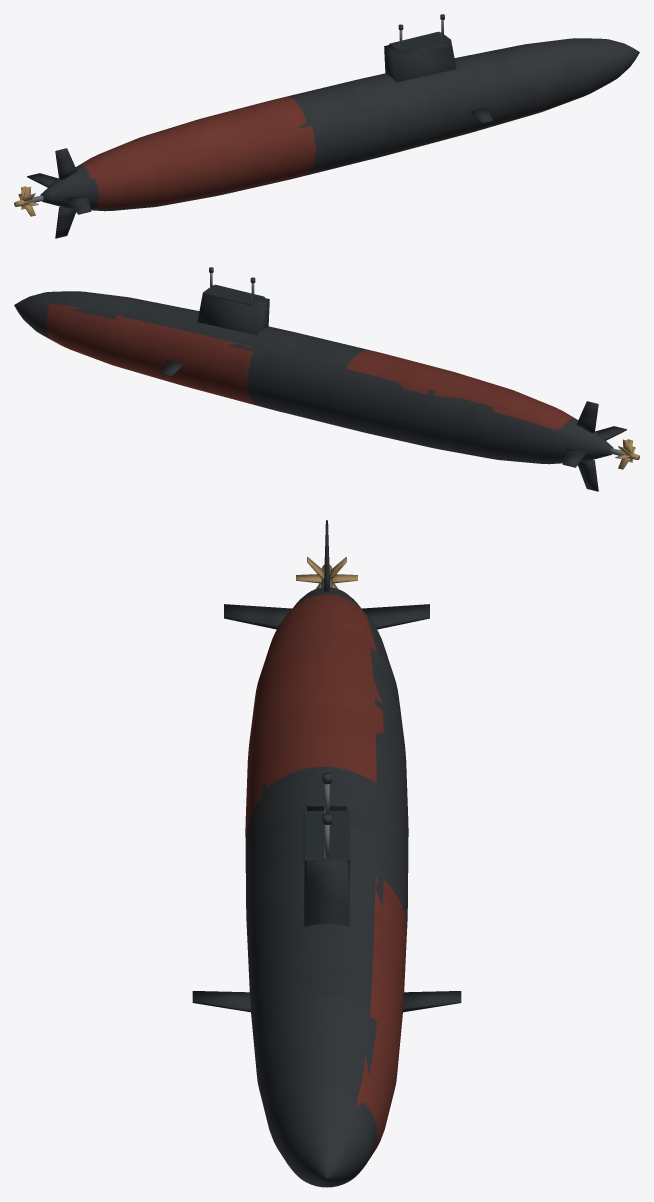
Rendered from UK_SSN_Swiftsure_LOD1.fbx.
3 views of the same model, one above another, from view 1: azimuth 30°, elevation 25°; view 2: azimuth 150°, elevation 25°; view 3: azimuth 270°, elevation 25° (orthographic). The views are drawn at different scales.
Parts seen in each view (by area): view 1: UK_SSN_Swiftsure_LOD1; view 2: UK_SSN_Swiftsure_LOD1; view 3: UK_SSN_Swiftsure_LOD1.
Boxes of the visible parts, x1=… form: UK_SSN_Swiftsure_LOD1: x1=14, y1=14, x2=639, y2=238; UK_SSN_Swiftsure_LOD1: x1=14, y1=267, x2=639, y2=491; UK_SSN_Swiftsure_LOD1: x1=192, y1=520, x2=461, y2=1187.
Bounding box in the file's own units: 86.65 × 16.15 × 17.07.
6 materials, 1 textured.
